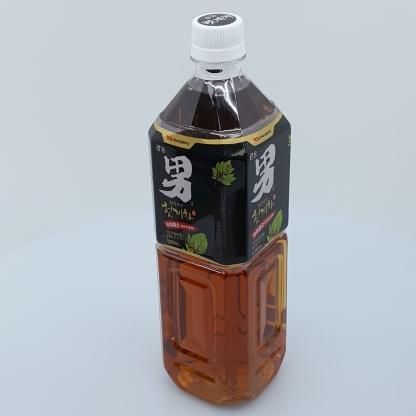----------1L: (147, 12, 291, 405)
